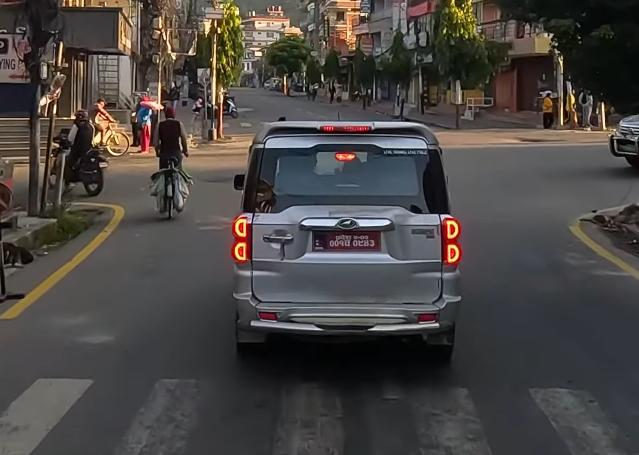SUV: (231, 110, 468, 369)
